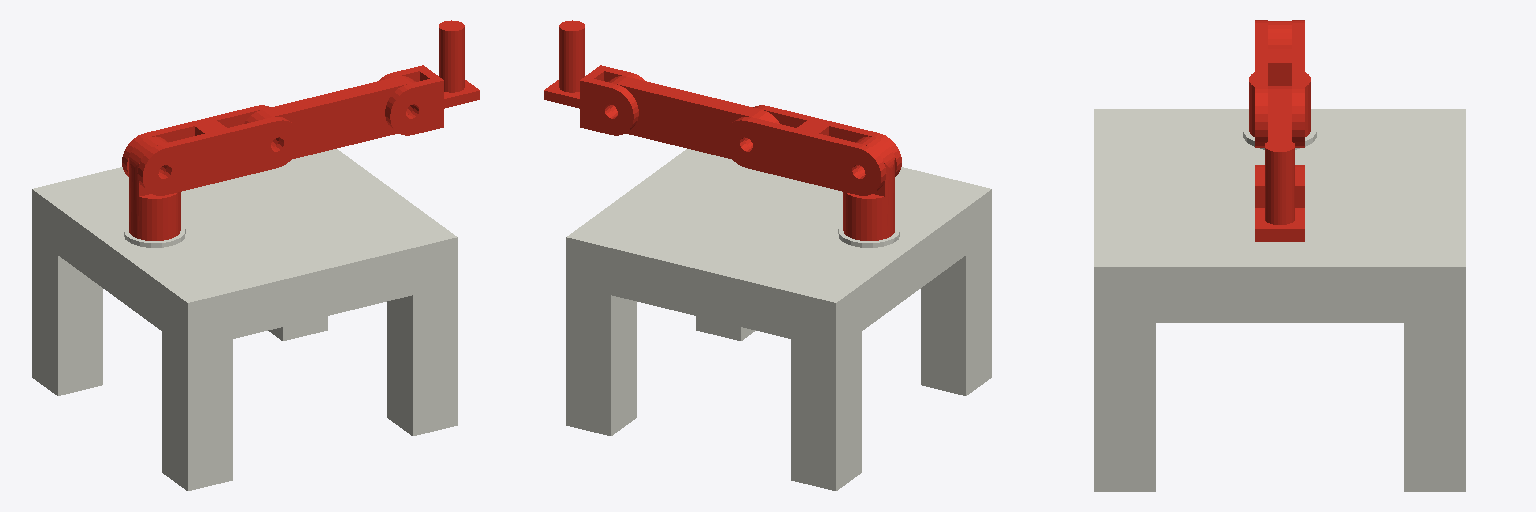
The robot description file, URDF, robot "scene2_solidworks_pd_tracking":
<?xml version="1.0" encoding="utf-8"?>
<!-- This URDF was automatically created by SolidWorks to URDF Exporter! Originally created by Stephen Brawner (brawner@gmail.com) 
     Commit Version: 1.6.0-4-g7f85cfe  Build Version: 1.6.7995.38578
     For more information, please see http://wiki.ros.org/sw_urdf_exporter -->
<robot name="scene2_solidworks_pd_tracking">
  <link
    name="base_link">
    <inertial>
      <origin
        xyz="0.199852295450087 -3.99744622060771E-06 -0.0999223393619701"
        rpy="0 0 0" />
      <mass
        value="48.0345575191895" />
      <inertia
        ixx="2.3204337107446"
        ixy="3.23291593172565E-16"
        ixz="0.000725185806663673"
        iyy="2.32181501704303"
        iyz="-5.32102341912409E-17"
        izz="3.68148670673196" />
    </inertial>
    <visual>
      <origin
        xyz="0 0 0"
        rpy="0 0 0" />
      <geometry>
        <mesh
          filename="meshes/base_link.STL" />
      </geometry>
      <material name="base_link_pd_material">
        <color rgba="0.88 0.88 0.84 1.0" />
      </material>
    </visual>
    <collision>
      <origin
        xyz="0 0 0"
        rpy="0 0 0" />
      <geometry>
        <mesh
          filename="meshes/base_link.STL" />
      </geometry>
    </collision>
  </link>
  <link
    name="link_1">
    <inertial>
      <origin
        xyz="-3.8185E-06 -3.9974E-06 0.077705"
        rpy="0 0 0" />
      <mass
        value="1.1076" />
      <inertia
        ixx="0.0035111"
        ixy="-1.4914E-18"
        ixz="7.6611E-18"
        iyy="0.0037165"
        iyz="1.2198E-18"
        izz="0.0012716" />
    </inertial>
    <visual>
      <origin
        xyz="0 0 0"
        rpy="0 0 0" />
      <geometry>
        <mesh
          filename="meshes/link_1.STL" />
      </geometry>
      <material name="link_1_pd_material">
        <color rgba="0.86 0.24 0.18 1.0" />
      </material>
    </visual>
    <collision>
      <origin
        xyz="0 0 0"
        rpy="0 0 0" />
      <geometry>
        <mesh
          filename="meshes/link_1.STL" />
      </geometry>
    </collision>
  </link>
  <joint
    name="joint_1"
    type="revolute">
    <origin
      xyz="0 0 0"
      rpy="0 0 0" />
    <parent
      link="base_link" />
    <child
      link="link_1" />
    <axis
      xyz="0 0 1" />
    <limit
      lower="-1.5708"
      upper="1.5708"
      effort="20"
      velocity="2" />
  </joint>
  <link
    name="link_2">
    <inertial>
      <origin
        xyz="0.124996181522837 2.12044982940765E-06 3.99744621913667E-06"
        rpy="0 0 0" />
      <mass
        value="1.45761059759436" />
      <inertia
        ixx="0.00239360523604234"
        ixy="-2.50322948163895E-18"
        ixz="6.9296489779354E-17"
        iyy="0.012335437490121"
        iyz="-1.0866898279364E-19"
        izz="0.0123281696106538" />
    </inertial>
    <visual>
      <origin
        xyz="0 0 0"
        rpy="0 0 0" />
      <geometry>
        <mesh
          filename="meshes/link_2.STL" />
      </geometry>
      <material name="link_2_pd_material">
        <color rgba="0.86 0.24 0.18 1.0" />
      </material>
    </visual>
    <collision>
      <origin
        xyz="0 0 0"
        rpy="0 0 0" />
      <geometry>
        <mesh
          filename="meshes/link_2.STL" />
      </geometry>
    </collision>
  </link>
  <joint
    name="joint_2"
    type="revolute">
    <origin
      xyz="0 0 0.15"
      rpy="1.5708 0 0" />
    <parent
      link="link_1" />
    <child
      link="link_2" />
    <axis
      xyz="0 0 -1" />
    <limit
      lower="-3.14159265358979"
      upper="3.14159265358979"
      effort="20"
      velocity="2" />
  </joint>
  <link
    name="link_3">
    <inertial>
      <origin
        xyz="0.149996181522838 2.12044982779436E-06 3.99744621647213E-06"
        rpy="0 0 0" />
      <mass
        value="1.45761059759436" />
      <inertia
        ixx="0.00138751675796685"
        ixy="-2.32337297548638E-20"
        ixz="1.23104823001782E-16"
        iyy="0.0171837552038401"
        iyz="3.87305012448716E-18"
        izz="0.0181825758024484" />
    </inertial>
    <visual>
      <origin
        xyz="0 0 0"
        rpy="0 0 0" />
      <geometry>
        <mesh
          filename="meshes/link_3.STL" />
      </geometry>
      <material name="link_3_pd_material">
        <color rgba="0.86 0.24 0.18 1.0" />
      </material>
    </visual>
    <collision>
      <origin
        xyz="0 0 0"
        rpy="0 0 0" />
      <geometry>
        <mesh
          filename="meshes/link_3.STL" />
      </geometry>
    </collision>
  </link>
  <joint
    name="joint_3"
    type="revolute">
    <origin
      xyz="0.25 0 0"
      rpy="0 0 0" />
    <parent
      link="link_2" />
    <child
      link="link_3" />
    <axis
      xyz="0 0 -1" />
    <limit
      lower="-3.14159265358979"
      upper="3.14159265358979"
      effort="20"
      velocity="2" />
  </joint>
  <link
    name="link_4">
    <inertial>
      <origin
        xyz="0.0364042997251589 2.12044980909404E-06 3.99744622464615E-06"
        rpy="0 0 0" />
      <mass
        value="0.577535390627309" />
      <inertia
        ixx="0.000853891031263966"
        ixy="-6.26006961069129E-20"
        ixz="-1.0218682501067E-17"
        iyy="0.00166914556058994"
        iyz="-2.40056821760727E-20"
        izz="0.00161433854706892" />
    </inertial>
    <visual>
      <origin
        xyz="0 0 0"
        rpy="0 0 0" />
      <geometry>
        <mesh
          filename="meshes/link_4.STL" />
      </geometry>
      <material name="link_4_pd_material">
        <color rgba="0.86 0.24 0.18 1.0" />
      </material>
    </visual>
    <collision>
      <origin
        xyz="0 0 0"
        rpy="0 0 0" />
      <geometry>
        <mesh
          filename="meshes/link_4.STL" />
      </geometry>
    </collision>
  </link>
  <joint
    name="joint_4"
    type="revolute">
    <origin
      xyz="0.3 0 0"
      rpy="0 0 0" />
    <parent
      link="link_3" />
    <child
      link="link_4" />
    <axis
      xyz="0 0 -1" />
    <limit
      lower="-3.14159265358979"
      upper="3.14159265358979"
      effort="20"
      velocity="2" />
  </joint>
  <link
    name="link_5">
    <inertial>
      <origin
        xyz="-3.81847716091066E-06 3.9974462134329E-06 -0.0730073017968724"
        rpy="0 0 0" />
      <mass
        value="0.303163691071415" />
      <inertia
        ixx="0.000642744846944096"
        ixy="0"
        ixz="2.97910833180706E-19"
        iyy="0.000642744846944096"
        iyz="1.03868074675112E-33"
        izz="9.86263743686346E-05" />
    </inertial>
    <visual>
      <origin
        xyz="0 0 0"
        rpy="0 0 0" />
      <geometry>
        <mesh
          filename="meshes/link_5.STL" />
      </geometry>
      <material name="link_5_pd_material">
        <color rgba="0.86 0.24 0.18 1.0" />
      </material>
    </visual>
    <collision>
      <origin
        xyz="0 0 0"
        rpy="0 0 0" />
      <geometry>
        <mesh
          filename="meshes/link_5.STL" />
      </geometry>
    </collision>
  </link>
  <joint
    name="joint_5"
    type="prismatic">
    <origin
      xyz="0.11 -0.01 0.0"
      rpy="1.5708 0 0" />
    <parent
      link="link_4" />
    <child
      link="link_5" />
    <axis
      xyz="0 0 1" />
    <limit
      lower="0"
      upper="0.12"
      effort="10"
      velocity="0.2" />
  </joint>
</robot>

--- What the picture shows (computed from the rendered views, not written in the file) ---
The picture shows the robot from 3 angles, left to right: view 1: azimuth 30°, elevation 25°; view 2: azimuth 150°, elevation 25°; view 3: azimuth 270°, elevation 25°; orthographic projection.
Robot: scene2_solidworks_pd_tracking — 6 links, 5 joints (4 revolute, 1 prismatic); root link base_link; default pose: all joints at 0.
Links seen in each view (by area): view 1: base_link, link_2, link_3, link_4, link_1, link_5; view 2: base_link, link_2, link_3, link_4, link_1, link_5; view 3: base_link, link_2, link_5, link_4, link_1, link_3.
Boxes of the visible links, bbox=[...] form: base_link: bbox=[32, 149, 457, 490]; link_2: bbox=[122, 105, 299, 195]; link_3: bbox=[244, 76, 415, 159]; link_4: bbox=[379, 65, 479, 135]; link_1: bbox=[129, 136, 180, 240]; link_5: bbox=[439, 20, 464, 92]; base_link: bbox=[566, 149, 991, 490]; link_2: bbox=[724, 105, 901, 195]; link_3: bbox=[608, 76, 779, 159]; link_4: bbox=[544, 65, 644, 135]; link_1: bbox=[843, 136, 894, 240]; link_5: bbox=[559, 20, 584, 92]; base_link: bbox=[1094, 109, 1465, 491]; link_2: bbox=[1255, 20, 1304, 147]; link_5: bbox=[1265, 139, 1294, 224]; link_4: bbox=[1255, 165, 1304, 241]; link_1: bbox=[1249, 21, 1310, 136]; link_3: bbox=[1268, 86, 1291, 140].
Size in the robot's own frame: 0.8 by 0.6 by 0.69 metres.
6 mesh visuals loaded from 6 distinct referenced files (6 binary STL).
